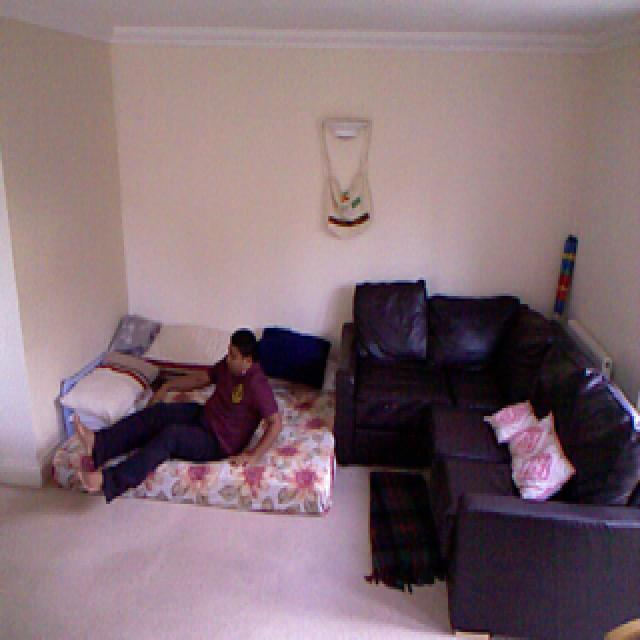Fall: (55, 336, 278, 494)
